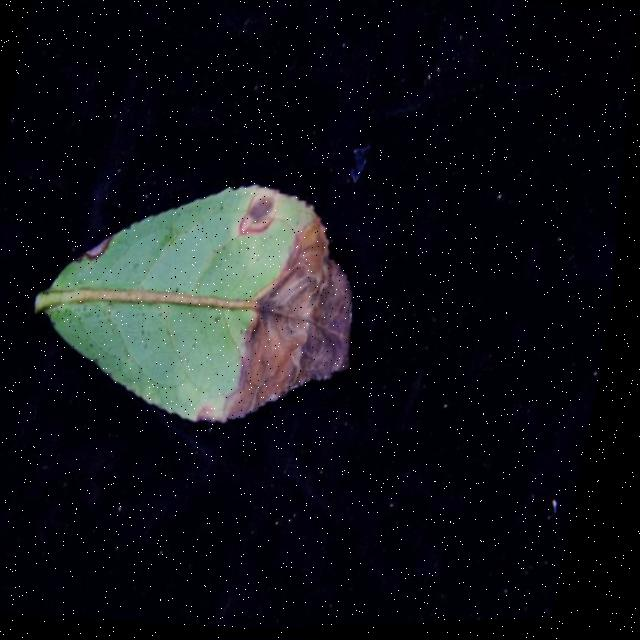Tea cloud leaf blight: (205, 201, 391, 443), (229, 182, 295, 258)
